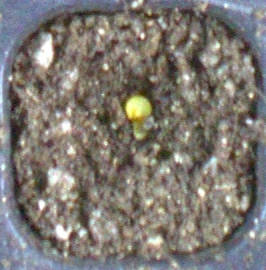pepper seed: (48, 34, 202, 154)
